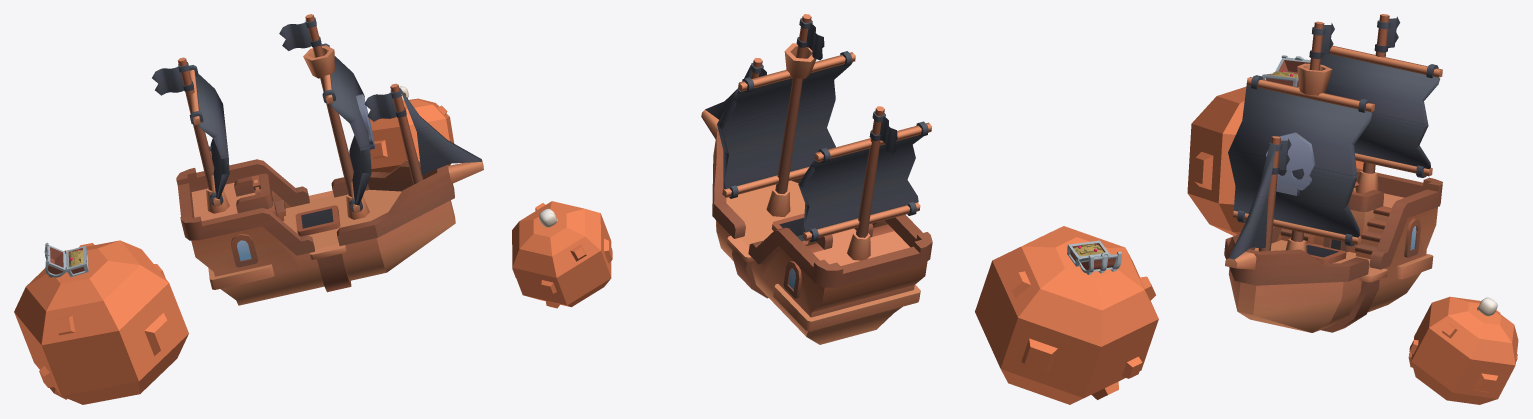
File: SpacePiratesPreview-transformed.glb
3 renders of one model, left to right at view 1: azimuth 30°, elevation 25°; view 2: azimuth 150°, elevation 25°; view 3: azimuth 270°, elevation 25°, orthographic. The views are drawn at different scales.
Parts seen in each view (by area): view 1: ship-pirate-medium, meteor_detailed, chest_uncommon; view 2: ship-pirate-medium, meteor_detailed, chest_uncommon; view 3: ship-pirate-medium, meteor_detailed, chest_uncommon.
Boxes of the visible parts, <box> form: ship-pirate-medium: <box>152,14,483,305</box>; meteor_detailed: <box>14,98,454,404</box>; chest_uncommon: <box>44,242,88,277</box>; ship-pirate-medium: <box>701,14,932,344</box>; meteor_detailed: <box>512,201,1158,404</box>; chest_uncommon: <box>1067,240,1122,274</box>; ship-pirate-medium: <box>1224,14,1442,332</box>; meteor_detailed: <box>1187,71,1518,404</box>; chest_uncommon: <box>1262,55,1310,87</box>.
Size of the model in its own units: 15.31 by 8.86 by 7.79.
Materials: 4 (4 with a texture image).
